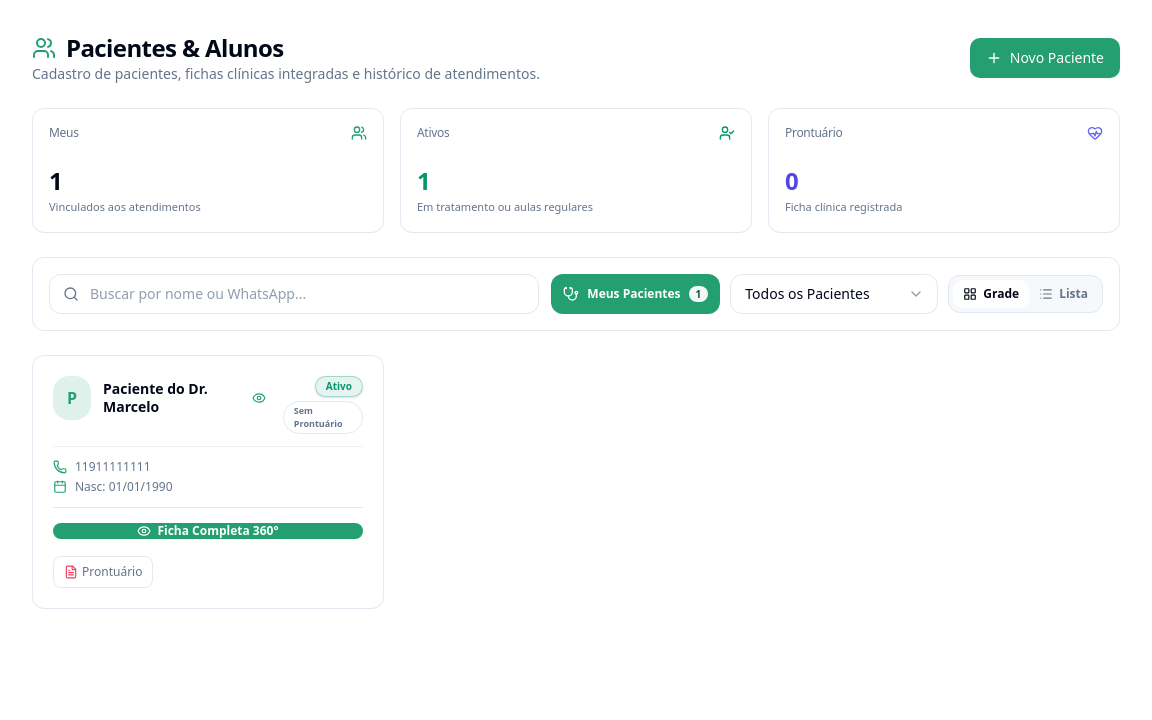
professional sees "Meus Pacientes" active by default and filters assigned patients
Expected: the heading "Paciente do Dr. Marcelo" is shown, [103,379,208,416]
Expected: the text "Paciente de Outro Profissional" is not shown
Click the button "Meus Pacientes 1". click: (636, 294)
box: [551,274,720,314]
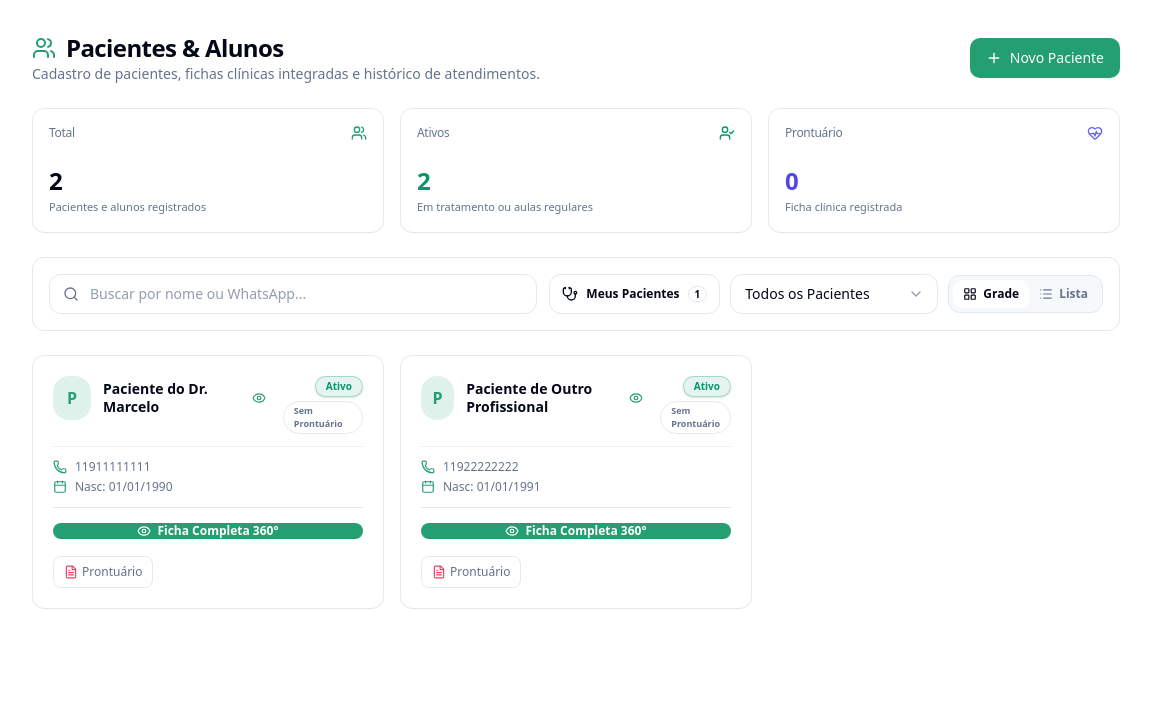
Expected: the heading "Paciente do Dr. Marcelo" is shown, [103,379,208,416]
Expected: the heading "Paciente de Outro Profissional" is shown, [466,379,592,416]
# Clicando novamente, reativa o filtro
Click the button "Meus Pacientes 1". click: (635, 294)
box: [549,274,720,314]
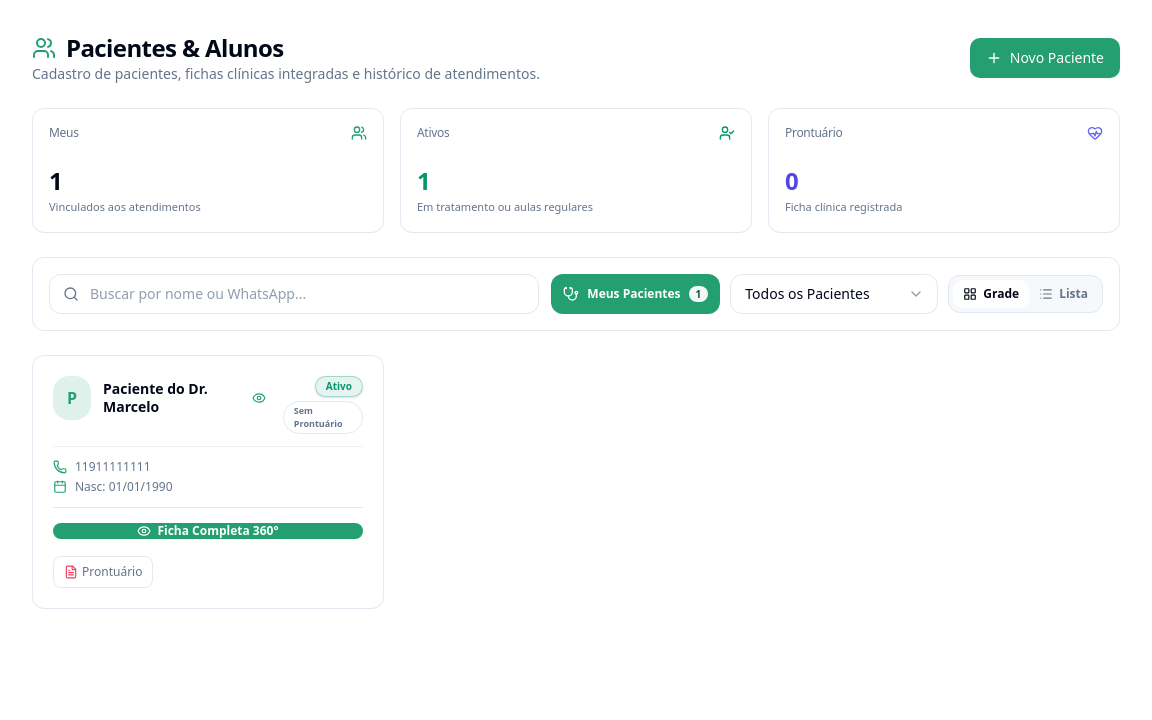
Expected: the heading "Paciente do Dr. Marcelo" is shown, [103,379,208,416]
Expected: the heading "Paciente de Outro Profissional" is gone
